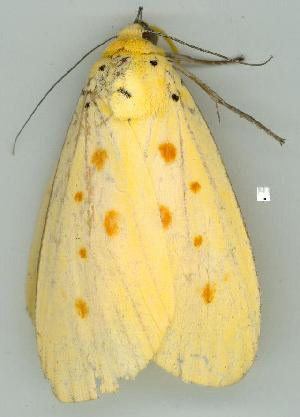Agape chloropyga: (9, 4, 292, 404)
moth: (9, 3, 292, 403)
